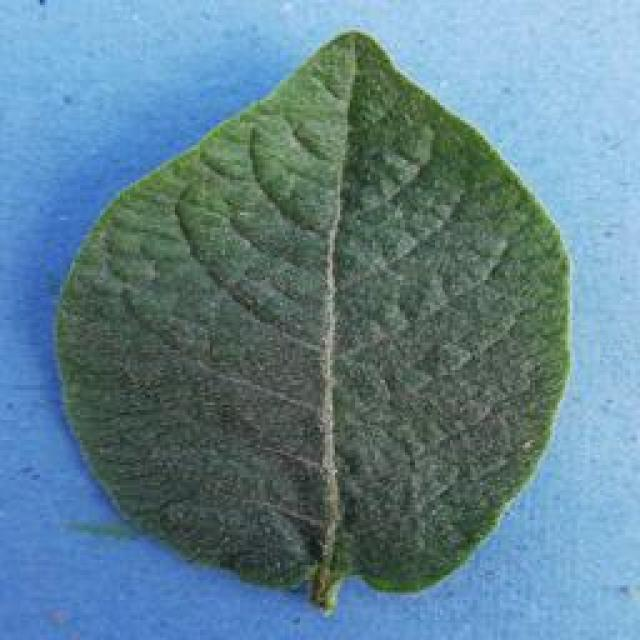Potato_Healthy: (56, 26, 570, 606)
